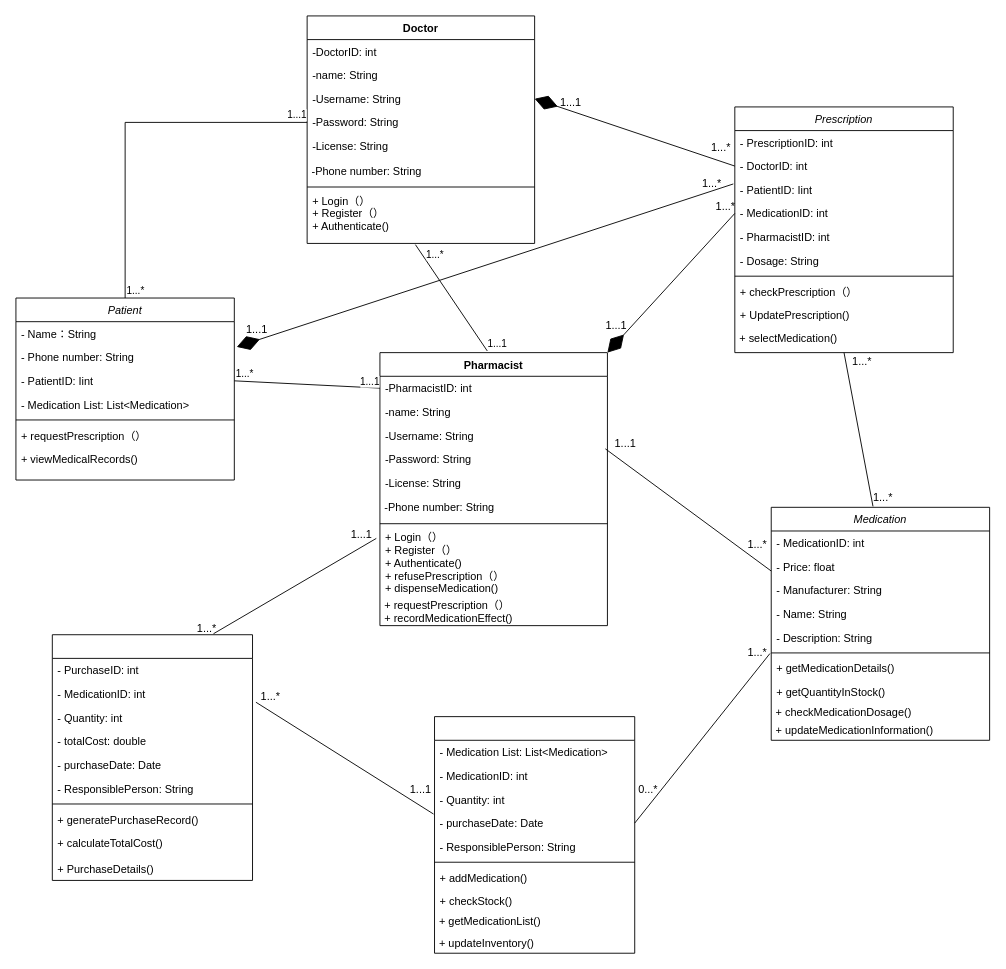
The diagram is 1006 pixels wide and 969 high, and some of its shapes have lost their labels. The box of each missing label's shape, as (x1, y1, x2, y2) in pixels:
MedicationPurchase: (51, 634, 253, 880)
MedicationWarehouse: (434, 716, 635, 953)
